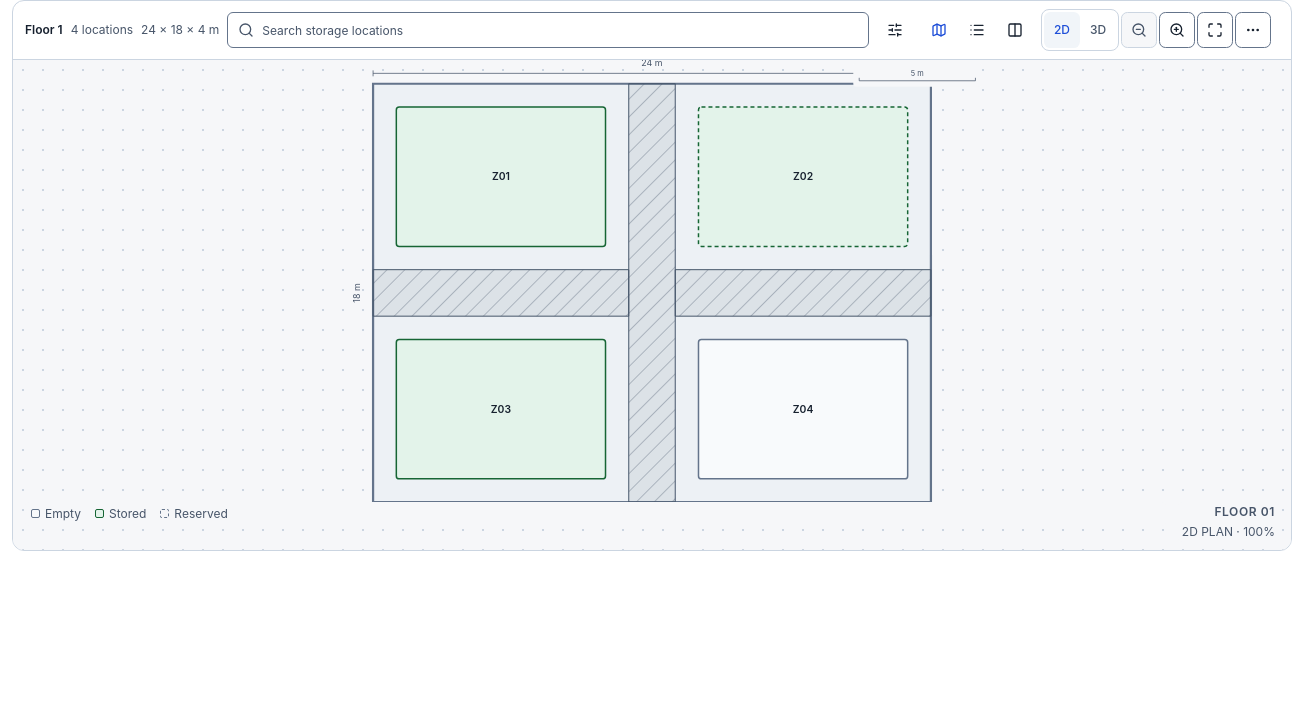
Test: canvas first workspace › returns focus to the search field after clearing it
Step 1. Type "FG" into the search field → (560, 30), box [262,13,858,47]
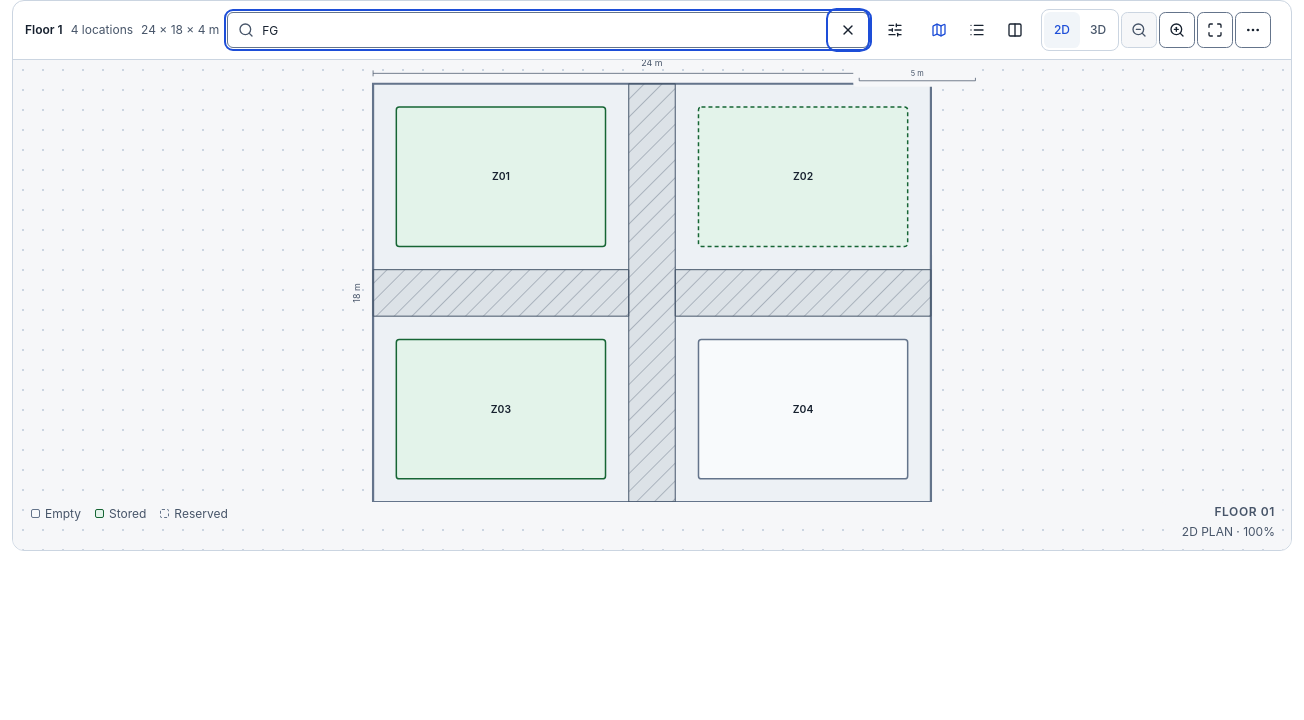
Step 2. Click the button named "Clear search" → (848, 30), box [830,12,866,48]
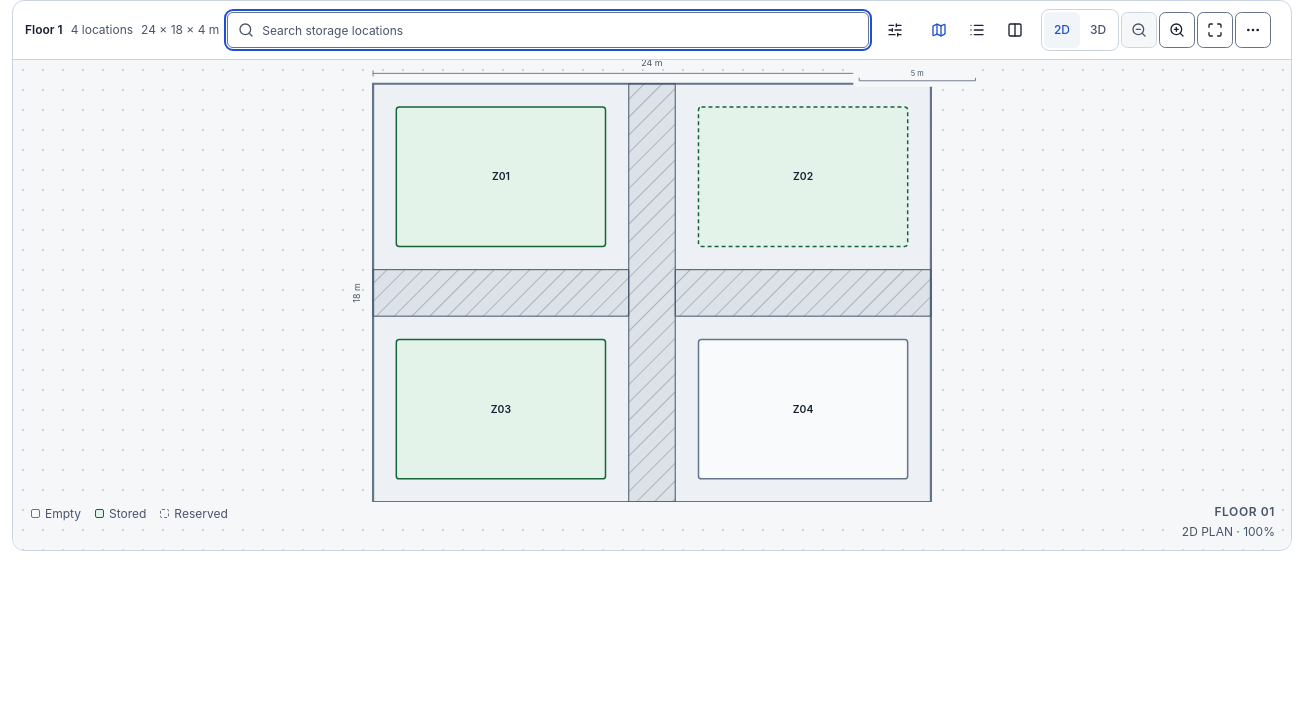
Expected: the search field is empty, [262,13,858,47]
